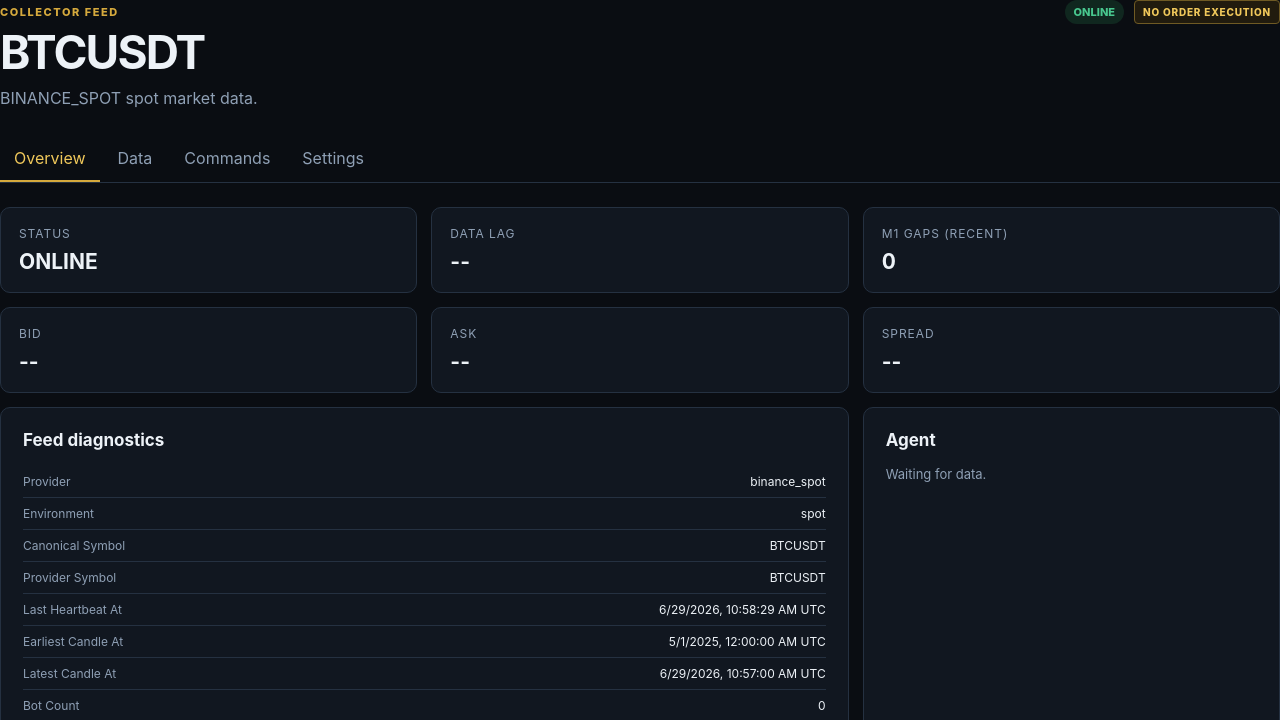
Test case: Collector feed Data tab › opens Commands and pre-fills the historical backfill from a selected gap
Click the button "Data" at coordinates (135, 159), box [104,136,166,182]
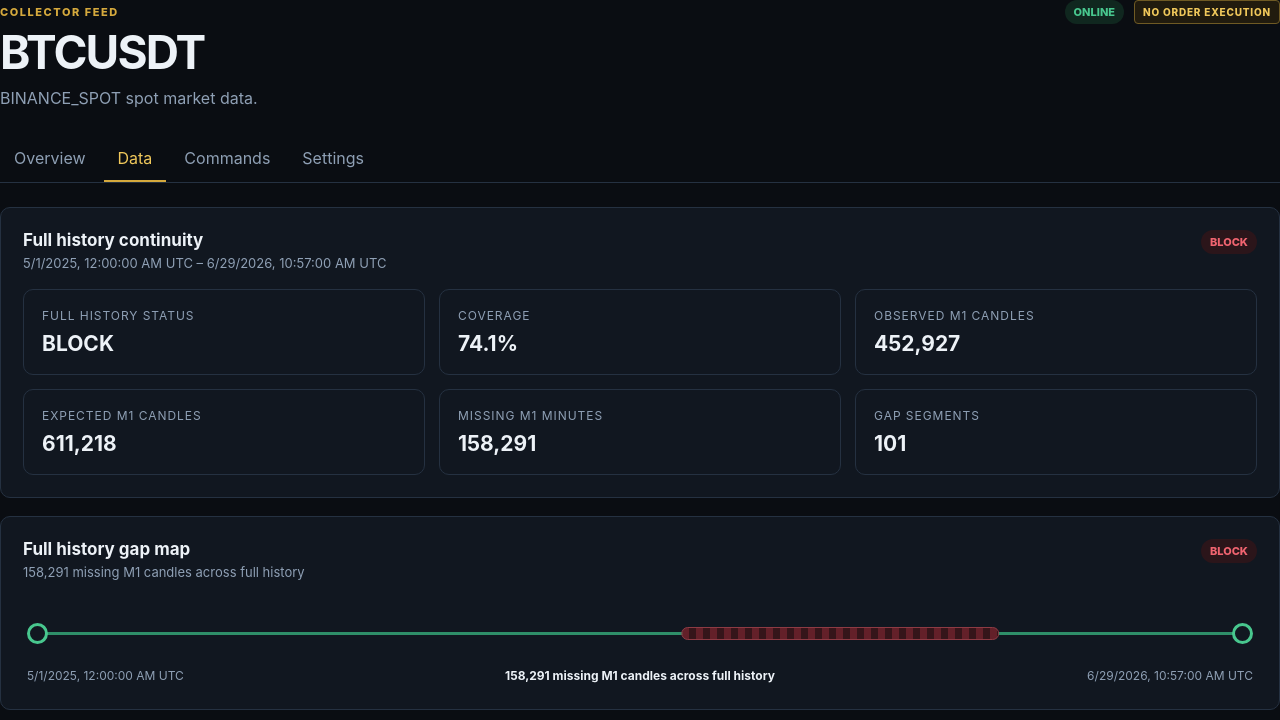
Click the button named "Backfill gap" at coordinates (840, 634), box [681,627,999,640]
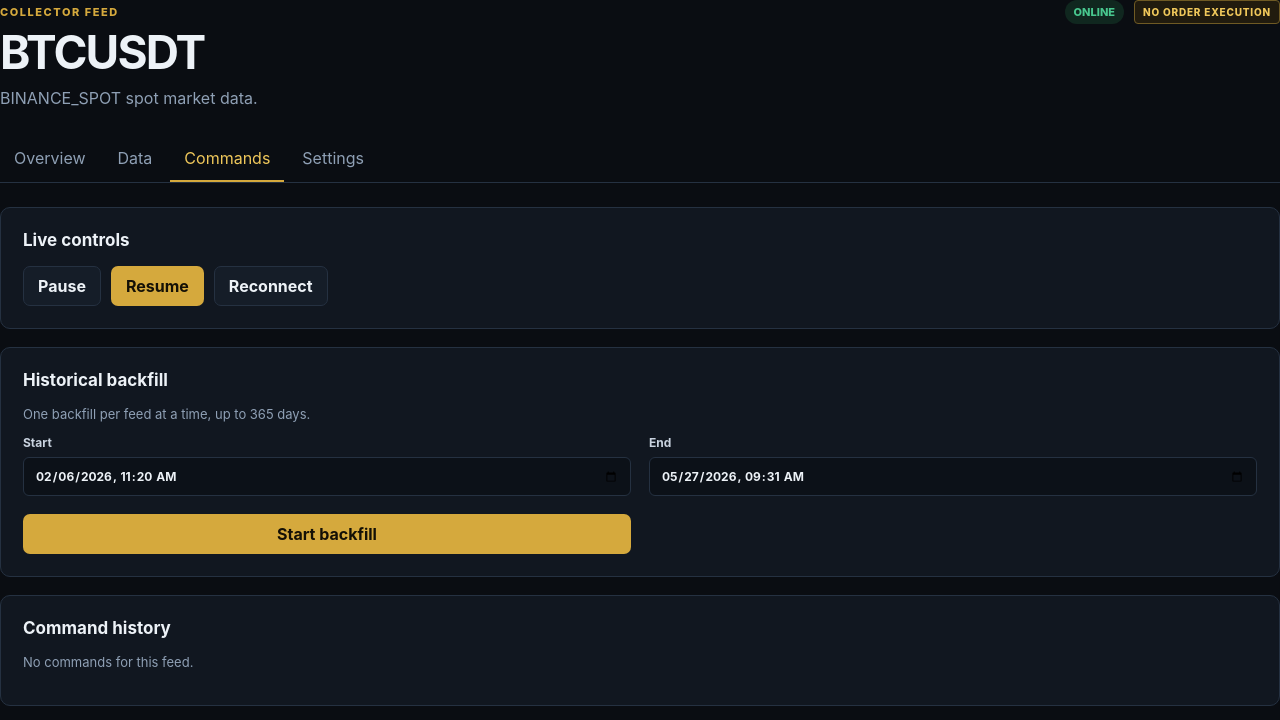
Check: the heading "Historical backfill" is shown, box [23,370,168,390]
